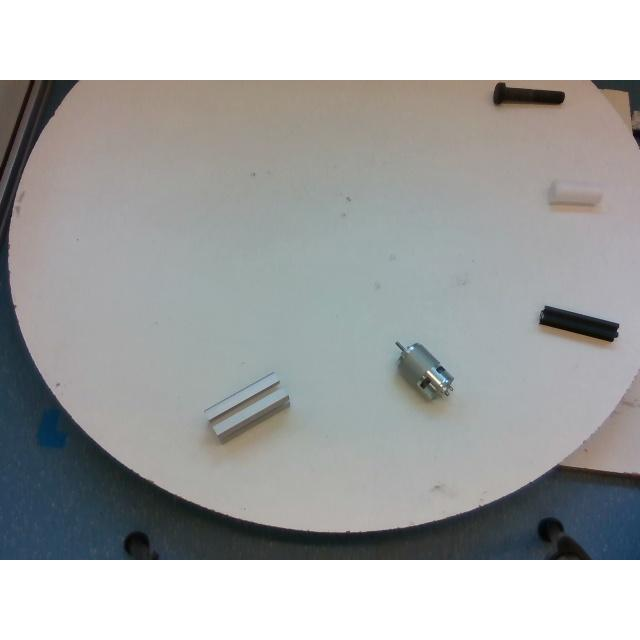F20_20_B: (538, 304, 618, 340)
M20_100: (493, 82, 563, 104)
Motor2: (396, 340, 452, 400)
S40_40_G: (204, 372, 288, 442)
Spacer: (548, 182, 604, 206)
